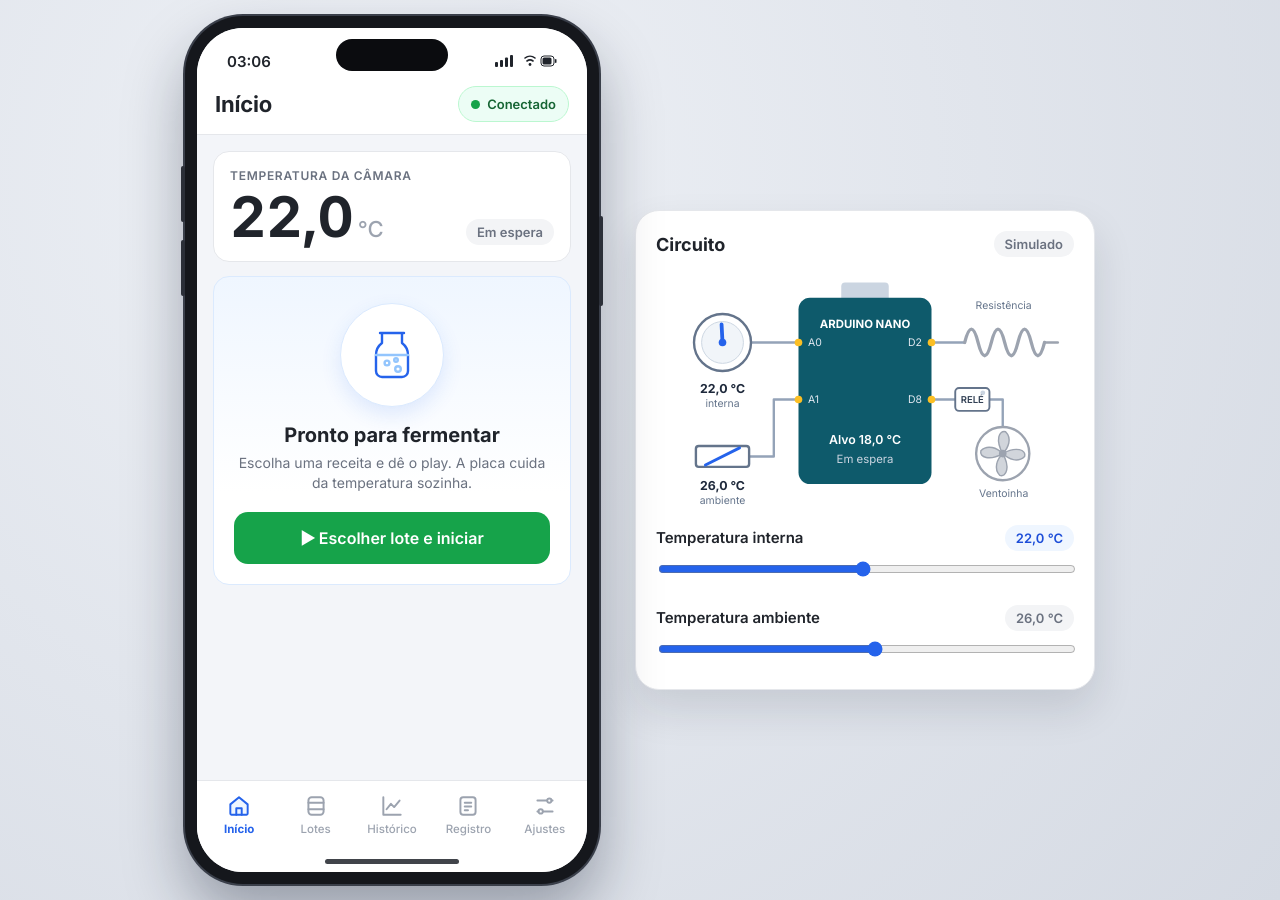
it: App › navega por todas as abas sem quebrar
Click the button "Lotes" at (316, 814), box [277, 787, 354, 842]
Wait 100 ms
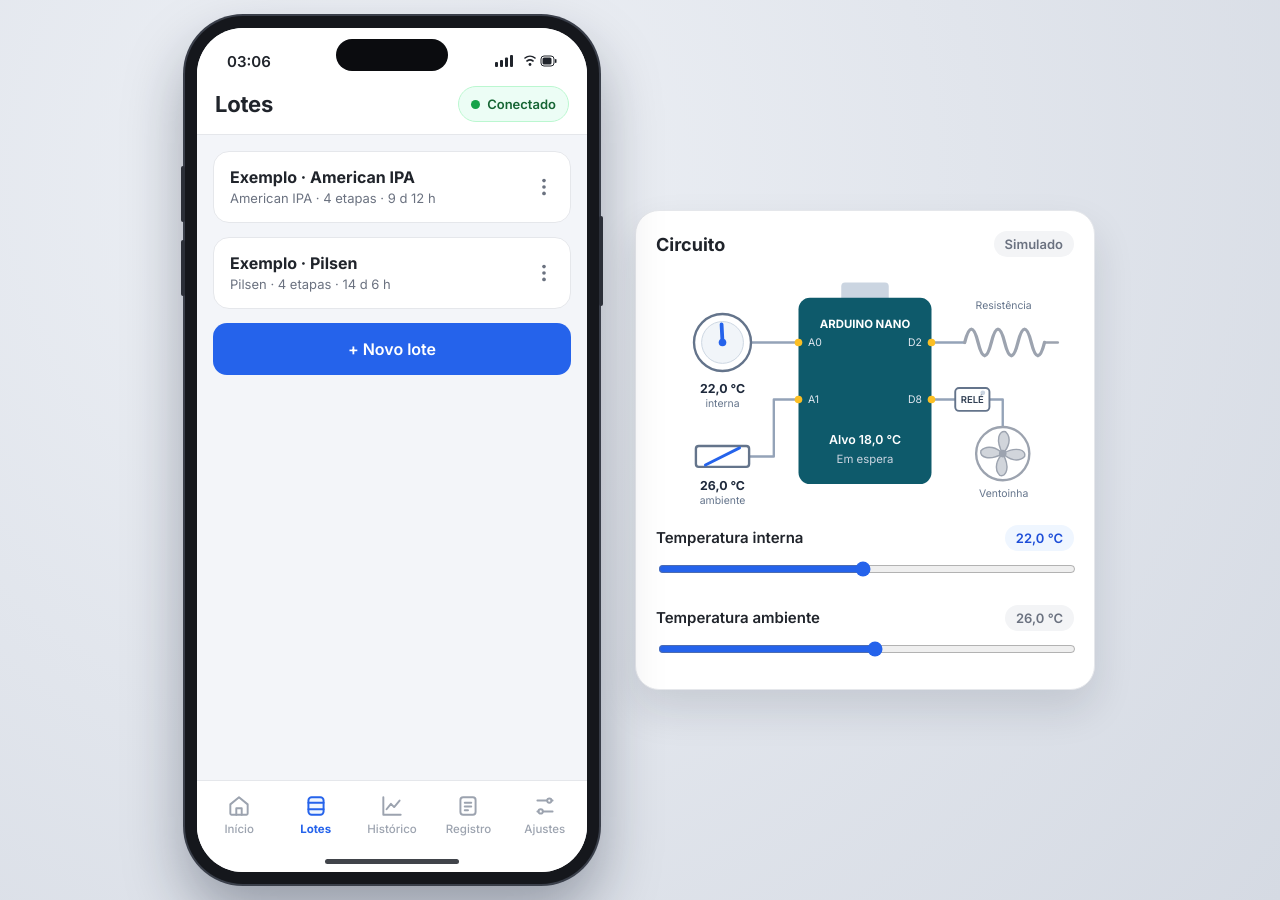
Check: the button "+ Novo lote" is shown, box [213, 323, 571, 375]
Click the button "Histórico" at (392, 814), box [354, 787, 430, 842]
Wait 100 ms
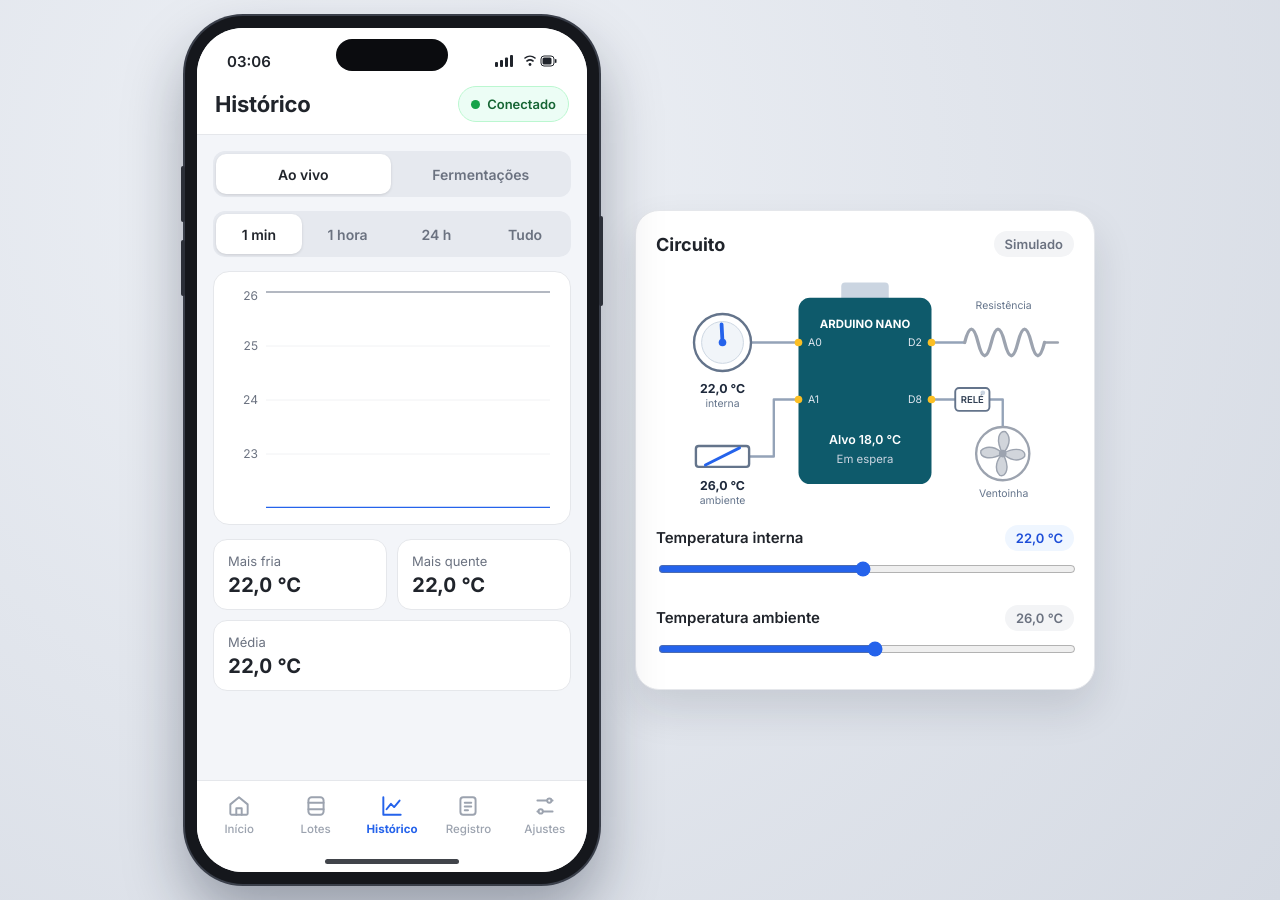
Check: the text "Mais fria" is shown, box [228, 553, 281, 569]
Click the button "Registro" at (468, 814), box [430, 787, 507, 842]
Wait 100 ms
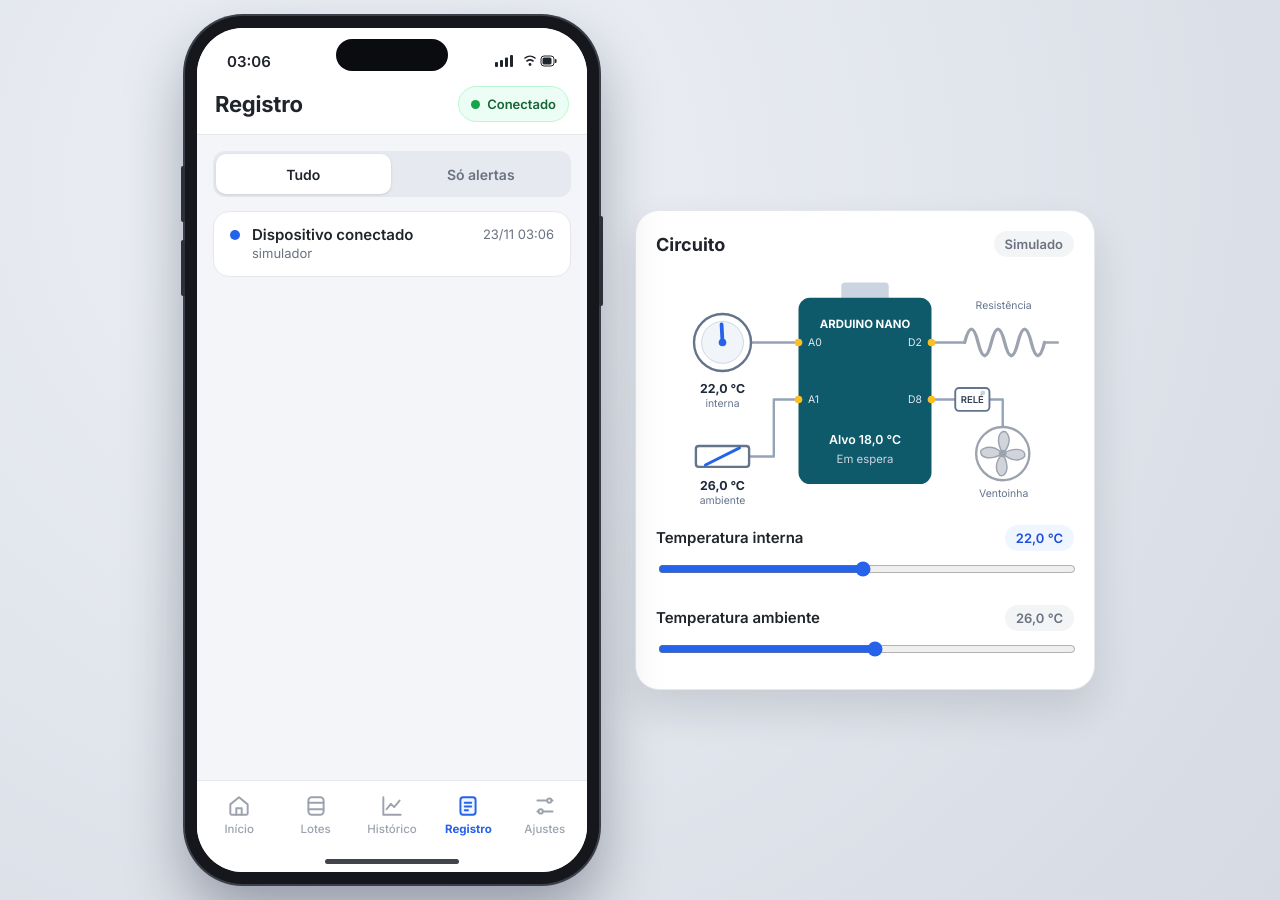
Check: the tab "Só alertas" is shown, box [394, 154, 568, 194]
Click the button "Ajustes" at (545, 814), box [507, 787, 583, 842]
Wait 100 ms
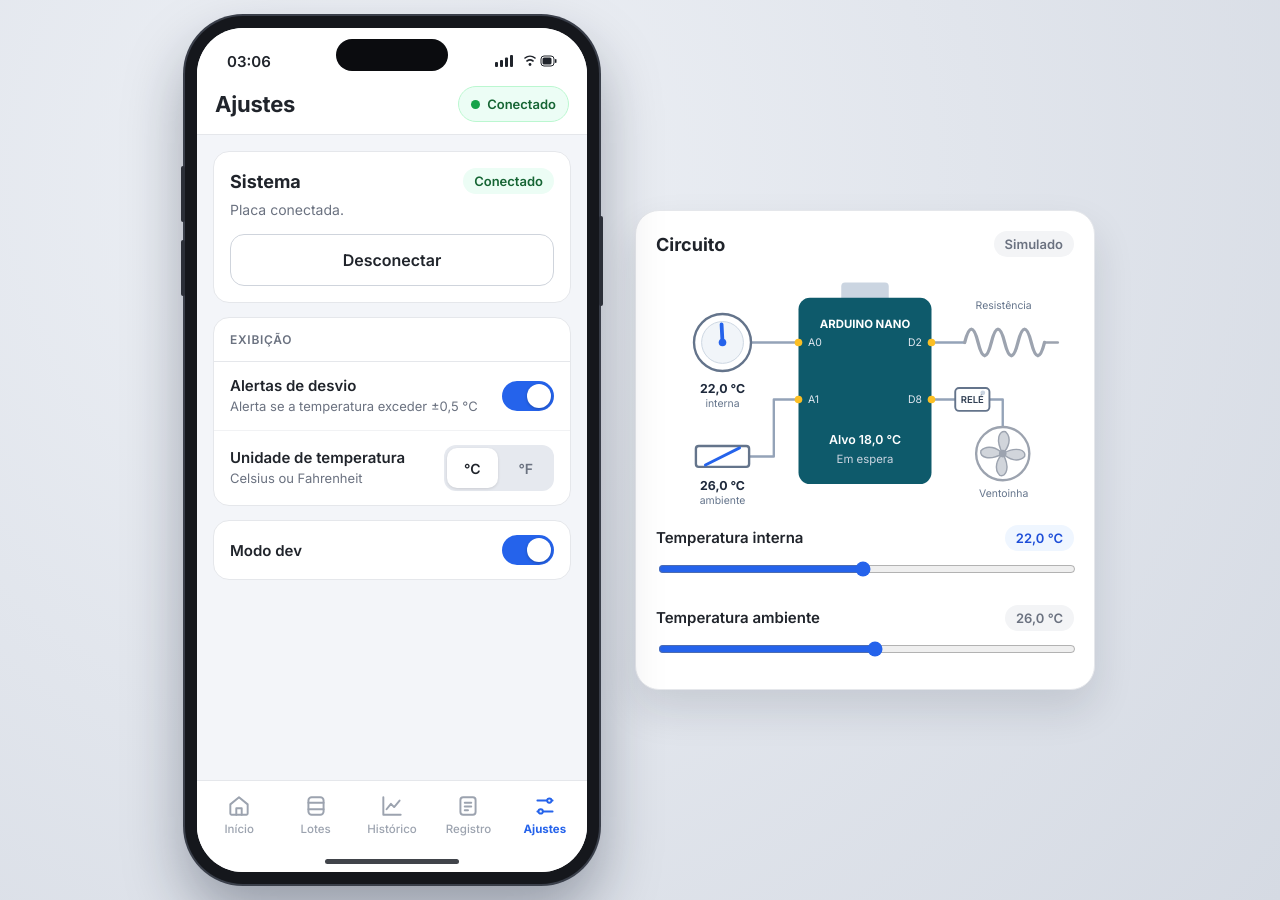
Check: the text "Sistema" is shown, box [230, 170, 301, 192]
Click the button "Início" at (239, 814), box [201, 787, 277, 842]
Wait 100 ms
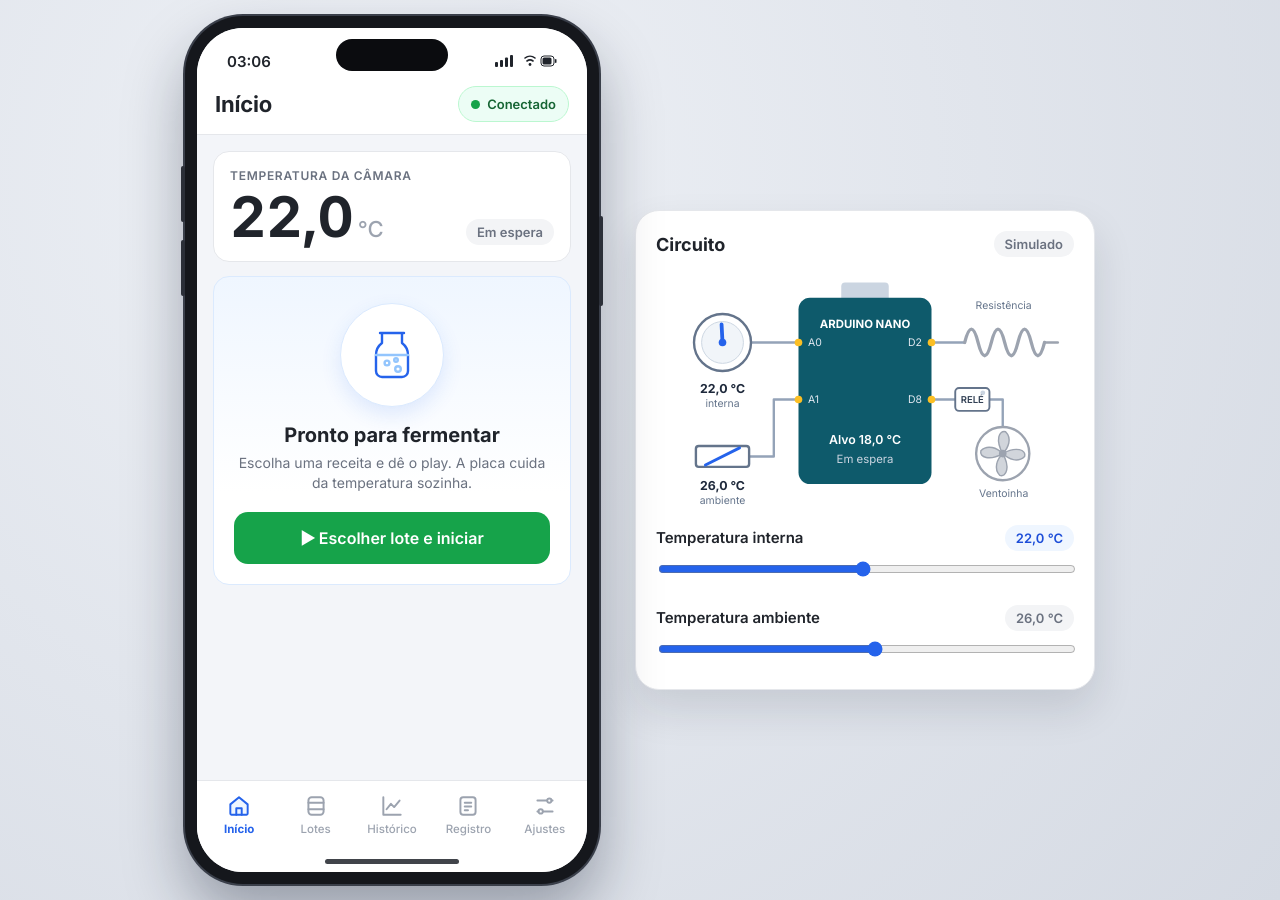
Check: the text "Pronto para fermentar" is shown, box [284, 423, 500, 447]
